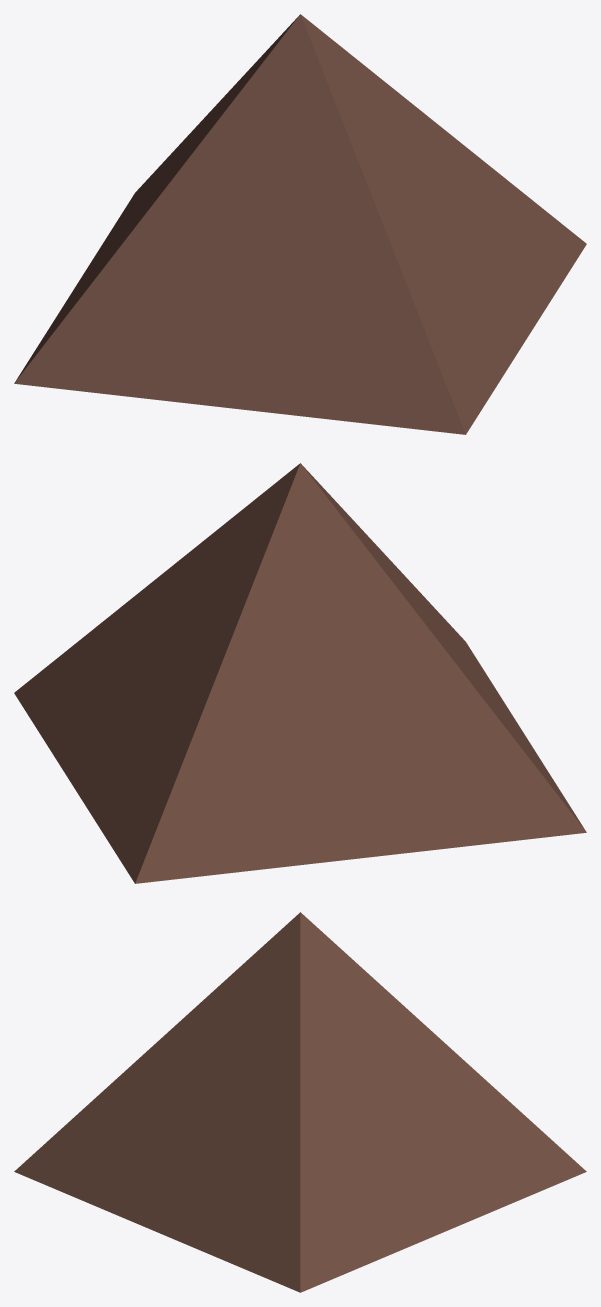
File: Piramide.fbx
3 renders of one model, top to bottom at view 1: azimuth 30°, elevation 25°; view 2: azimuth 150°, elevation 25°; view 3: azimuth 270°, elevation 25°, orthographic. The views are drawn at different scales.
Visible parts, largest first — view 1: Cone; view 2: Cone; view 3: Cone.
Part boxes in pixels (x1=…): Cone: x1=14, y1=14, x2=586, y2=434; Cone: x1=14, y1=463, x2=586, y2=883; Cone: x1=14, y1=912, x2=586, y2=1292.
Size of the model in its own units: 800 by 400 by 800.
